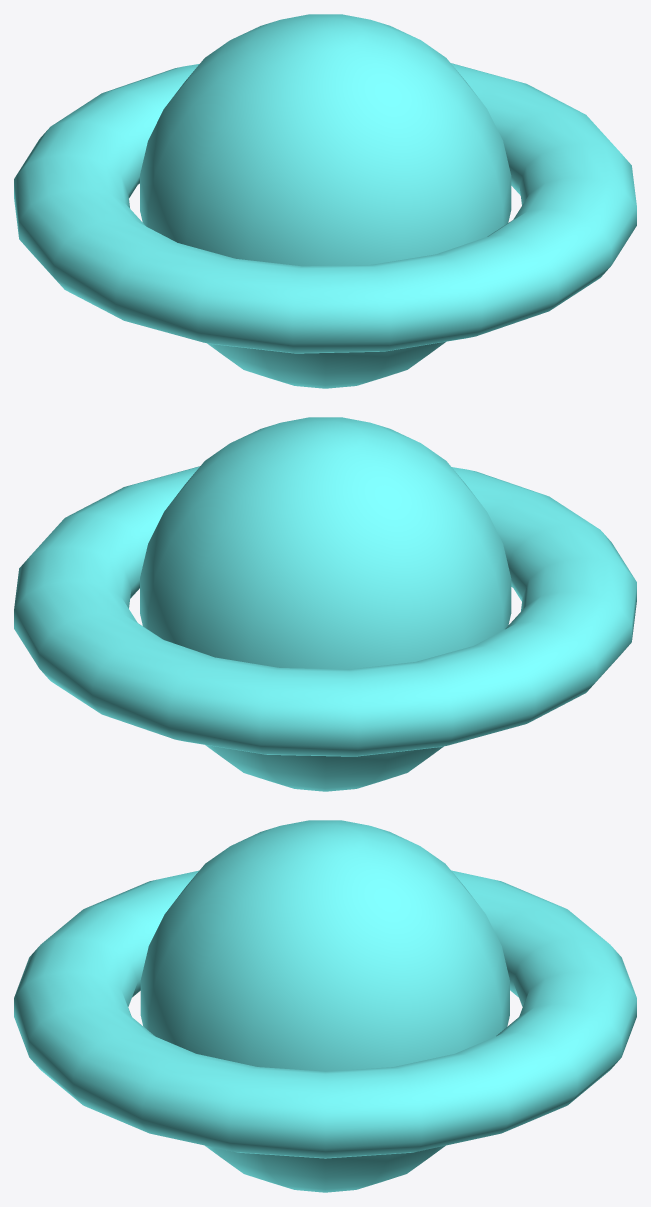
The model's file is planetWithRings_low 1.fbx.
3 views of the same model, one above another, from view 1: azimuth 30°, elevation 25°; view 2: azimuth 150°, elevation 25°; view 3: azimuth 270°, elevation 25° (orthographic).
Visible parts, largest first — view 1: planetRing_geo2, planet_geo5; view 2: planetRing_geo2, planet_geo5; view 3: planetRing_geo2, planet_geo5.
Boxes of the visible parts, left/top/right/bottom form: planetRing_geo2: left=14, top=63, right=636, bottom=353; planet_geo5: left=140, top=14, right=511, bottom=388; planetRing_geo2: left=14, top=466, right=636, bottom=756; planet_geo5: left=140, top=417, right=511, bottom=791; planetRing_geo2: left=14, top=870, right=636, bottom=1158; planet_geo5: left=140, top=820, right=509, bottom=1192.
Size of the model in its own units: 1.35 by 0.8072 by 1.35.
